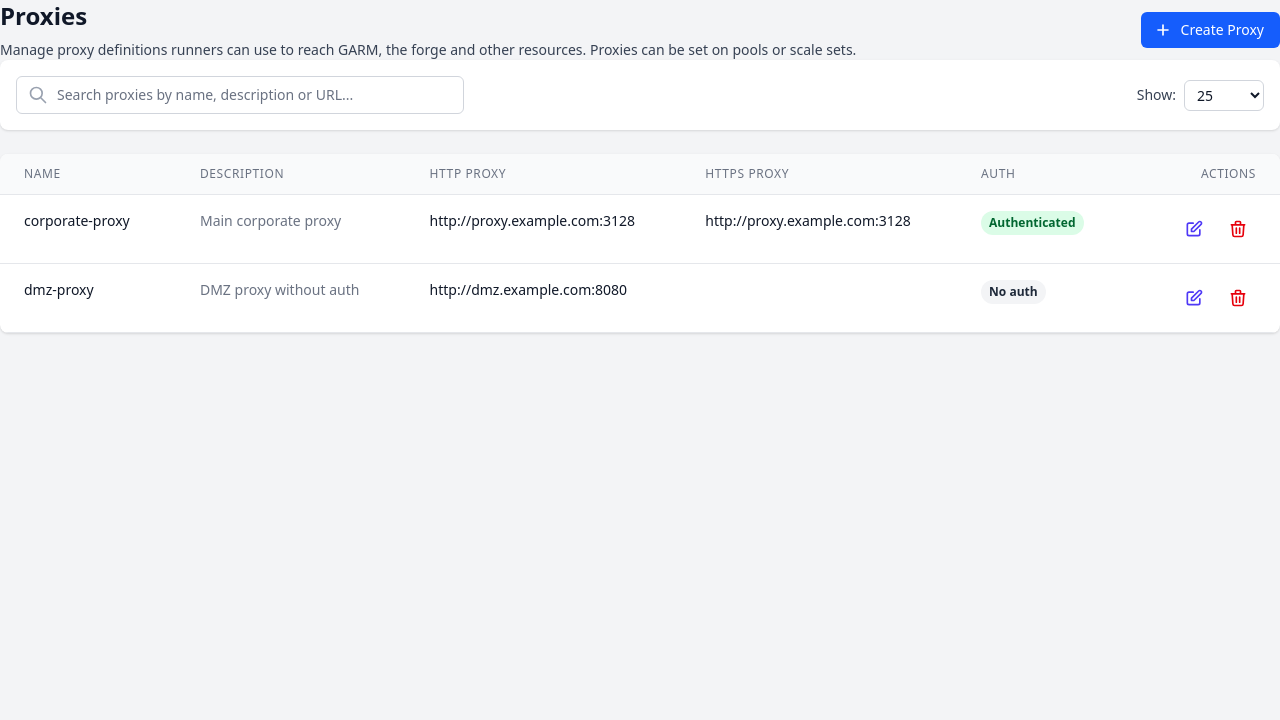
Test case: Proxies Page - Integration Tests › opens the create modal with form fields when "Create Proxy" is clicked
Click the button "Create Proxy".
click(1210, 30)  # box [1141, 12, 1279, 48]
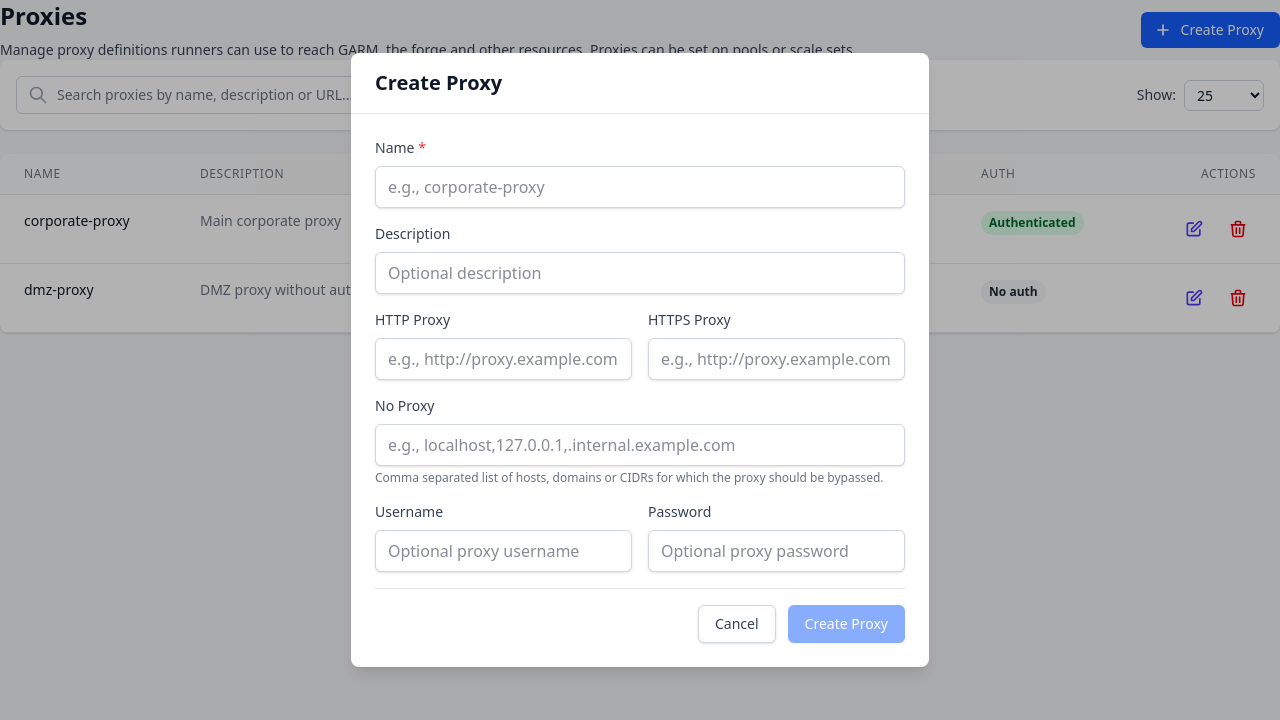
Result: the field labelled "Name *" is shown at [375, 166, 905, 208]
Result: the field labelled "Description" is shown at [375, 252, 905, 294]
Result: the field labelled "HTTP Proxy" is shown at [375, 338, 632, 380]
